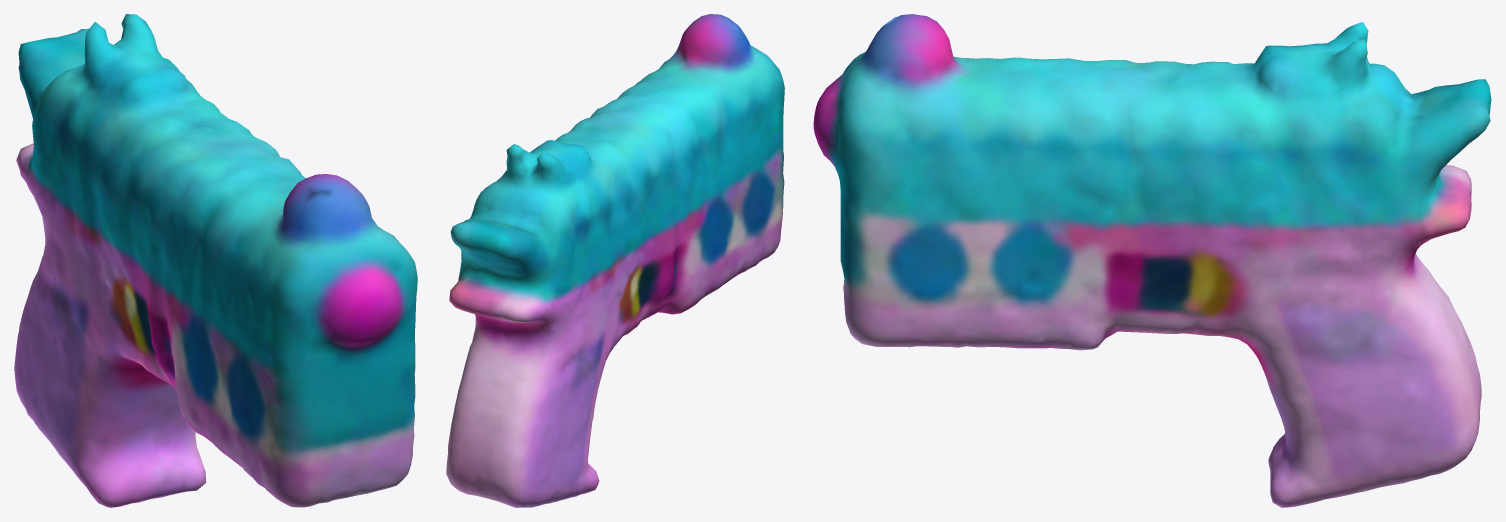
Rendered from A_pink_and_light-blue_rubbery_pistol_that_looks_like_it_can_s_0405203928_preview.fbx.
3 renders of one model, left to right at view 1: azimuth 30°, elevation 25°; view 2: azimuth 150°, elevation 25°; view 3: azimuth 270°, elevation 25°, orthographic. The views are drawn at different scales.
Visible parts, largest first — view 1: Mesh1; view 2: Mesh1; view 3: Mesh1.
Boxes of the visible parts, x1,y1,x2,y2 form: Mesh1: (14, 14, 417, 507); Mesh1: (446, 14, 784, 507); Mesh1: (813, 14, 1491, 507).
Size of the model in its own units: 30.49 by 90.96 by 120.
1 material, 1 textured.
